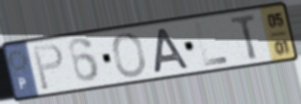6: (68, 36, 102, 89)
A: (152, 26, 191, 75)
L: (193, 22, 230, 68)
O: (110, 31, 148, 79)
P: (31, 42, 65, 93)
T: (228, 12, 261, 62)
